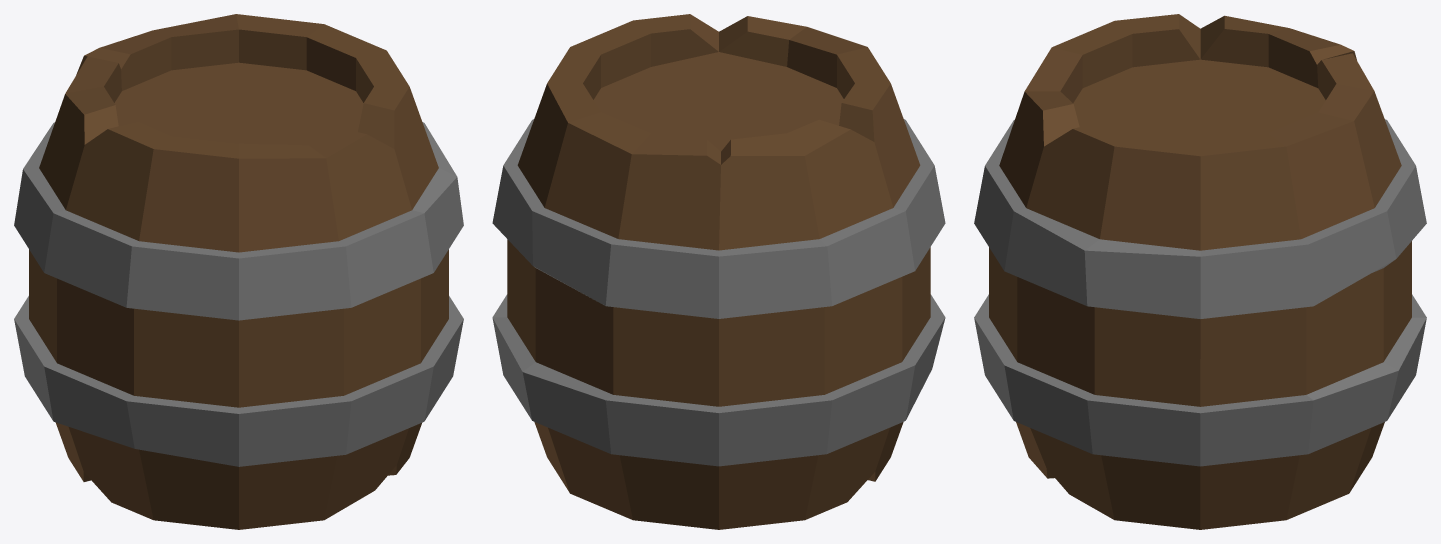
File: BarrelExportReady.fbx
3 views of the same model, side by side, from view 1: azimuth 30°, elevation 25°; view 2: azimuth 150°, elevation 25°; view 3: azimuth 270°, elevation 25° (orthographic).
Visible parts, largest first — view 1: Cylinder; view 2: Cylinder; view 3: Cylinder.
Part boxes in pixels (box(x1,y1,x2,y2)): Cylinder: box(14, 14, 463, 529); Cylinder: box(492, 14, 945, 529); Cylinder: box(974, 14, 1426, 529).
Size of the model in its own units: 132 by 120 by 132.
